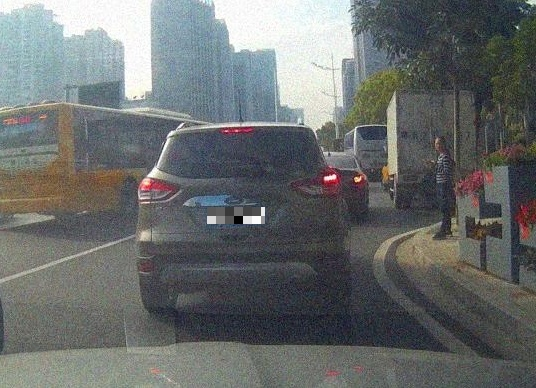L_light: (137, 176, 180, 201)
R_light: (292, 170, 342, 197)
T_light: (221, 128, 253, 133)
day-right: (135, 121, 348, 313)
plate_1: (207, 207, 265, 224)
